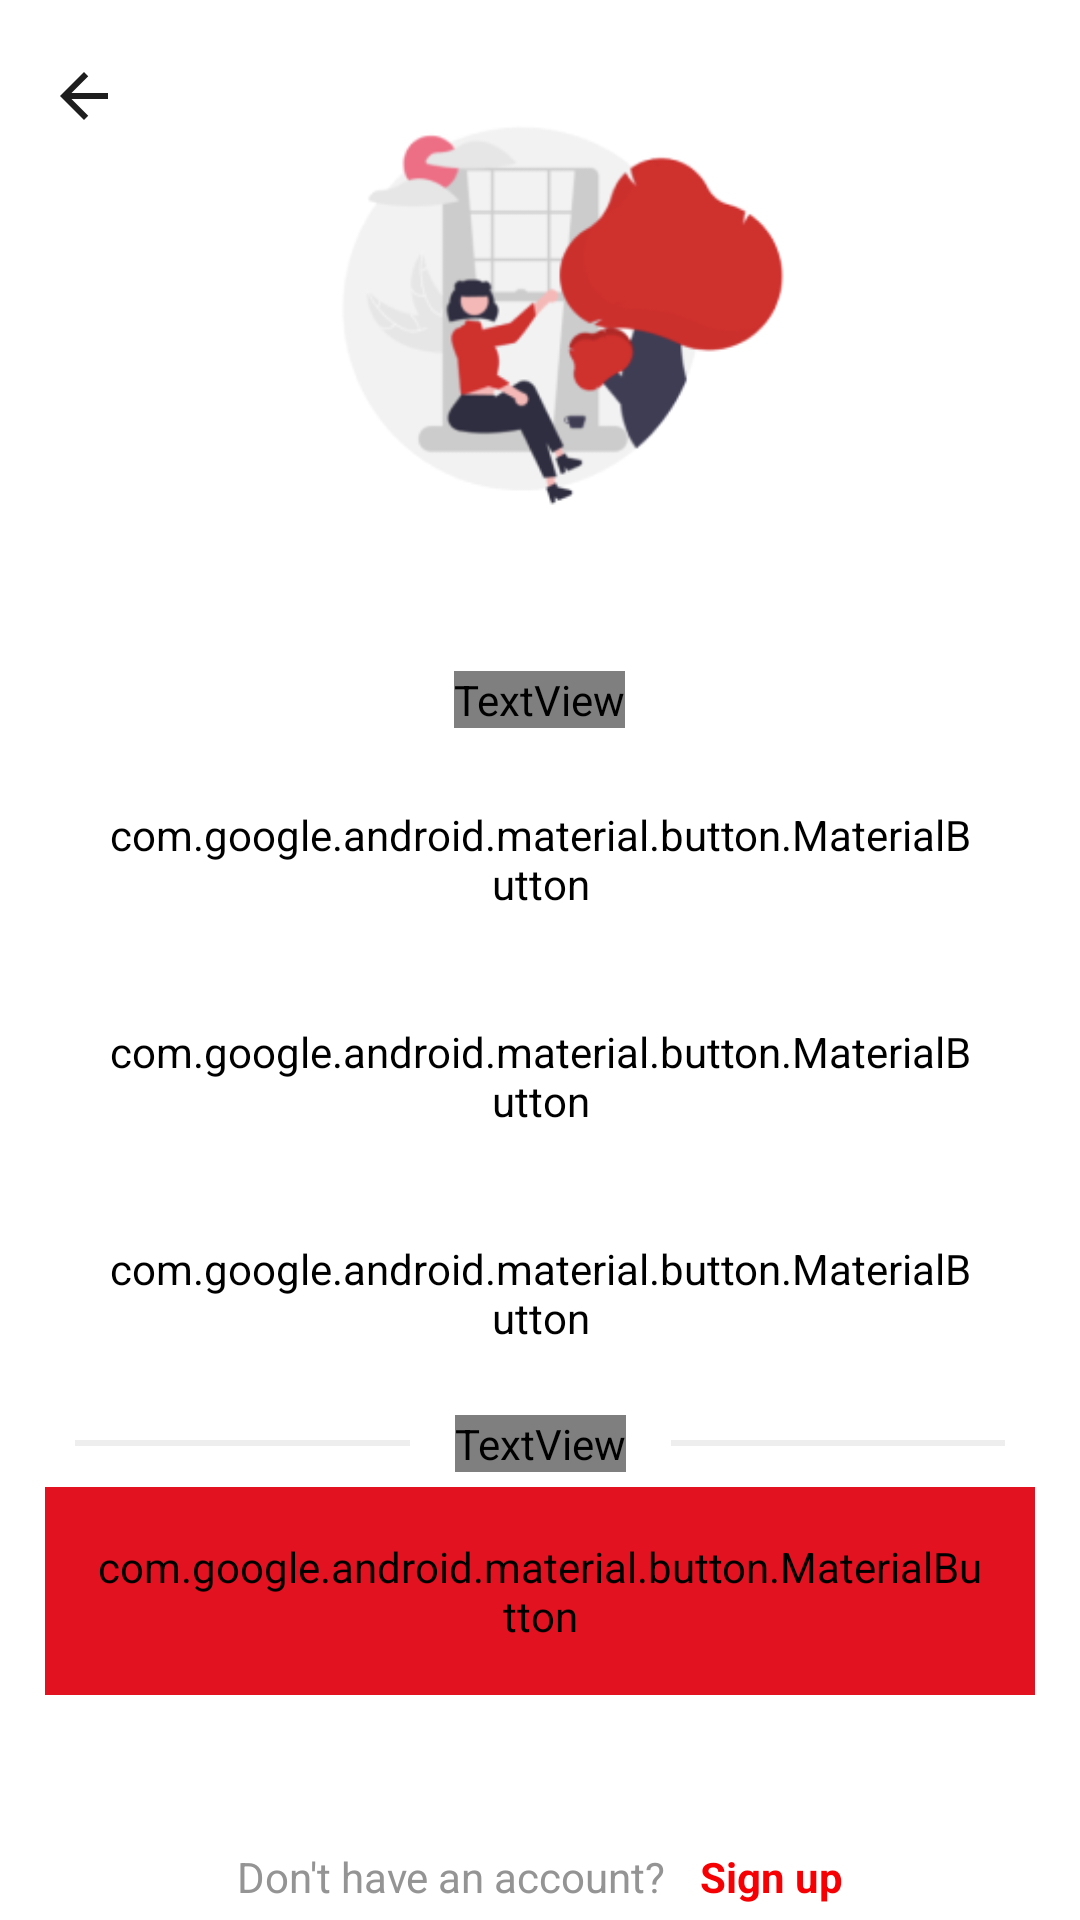

Named icons in this screenshot (1080*1920) and their centers, point (x, y):
arrow back: point (84, 96)
